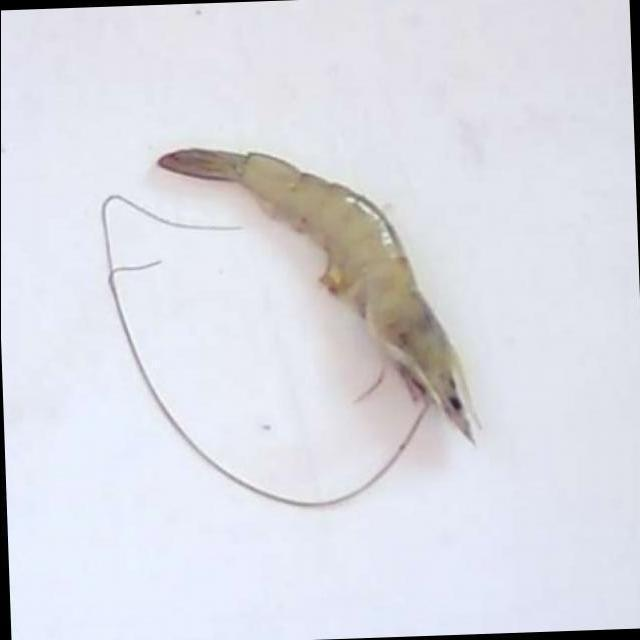shrimp: (158, 150, 479, 443)
